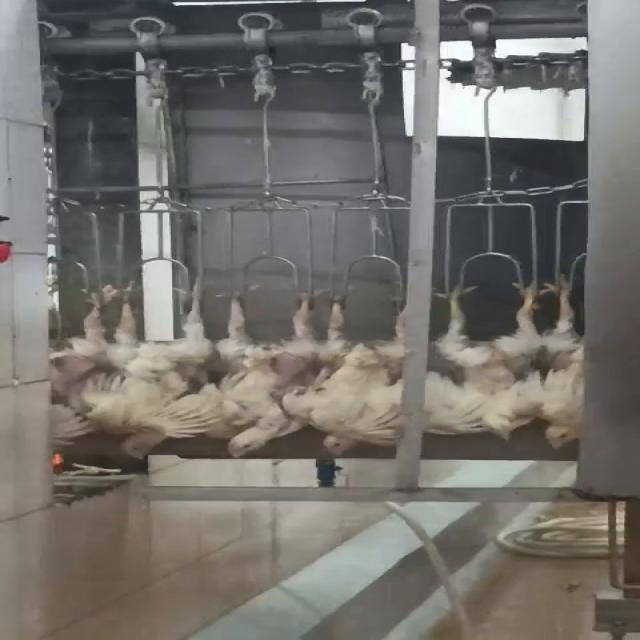chicken: (430, 274, 539, 442), (206, 291, 315, 458), (309, 293, 416, 462), (30, 282, 123, 458), (119, 289, 211, 462), (537, 251, 608, 452)
